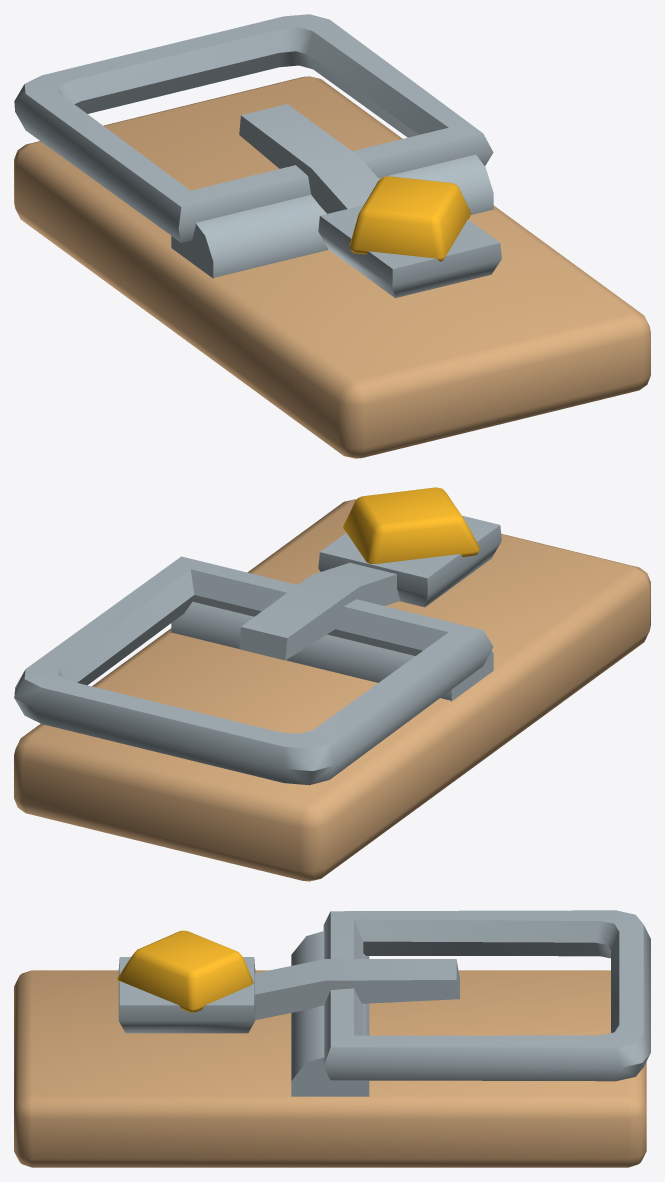
File: mousetrap.glb
The picture shows the model from 3 angles, top to bottom: view 1: azimuth 30°, elevation 25°; view 2: azimuth 150°, elevation 25°; view 3: azimuth 270°, elevation 25°; orthographic projection. The views are drawn at different scales.
Visible parts, largest first — view 1: mousetrap, mousetrap_snap, mousetrap_bait; view 2: mousetrap, mousetrap_snap, mousetrap_bait; view 3: mousetrap, mousetrap_snap, mousetrap_bait.
Boxes of the visible parts, bbox=[...] form: mousetrap: bbox=[14, 76, 650, 458]; mousetrap_snap: bbox=[14, 14, 493, 242]; mousetrap_bait: bbox=[349, 176, 470, 261]; mousetrap: bbox=[14, 499, 650, 881]; mousetrap_snap: bbox=[14, 556, 493, 785]; mousetrap_bait: bbox=[343, 487, 479, 563]; mousetrap: bbox=[14, 931, 646, 1167]; mousetrap_snap: bbox=[323, 910, 650, 1081]; mousetrap_bait: bbox=[117, 930, 253, 1012].
Size of the model in its own units: 0.3712 by 0.1859 by 0.6942.
